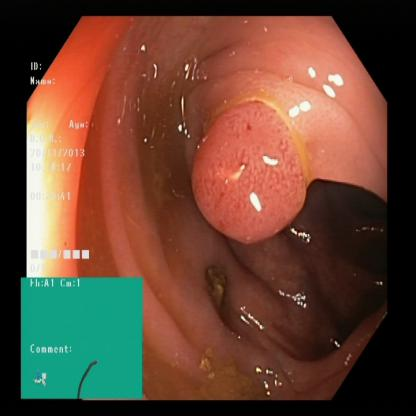Labels: (22, 277, 143, 399), (28, 63, 96, 278)
Polyps: (176, 101, 318, 249)
